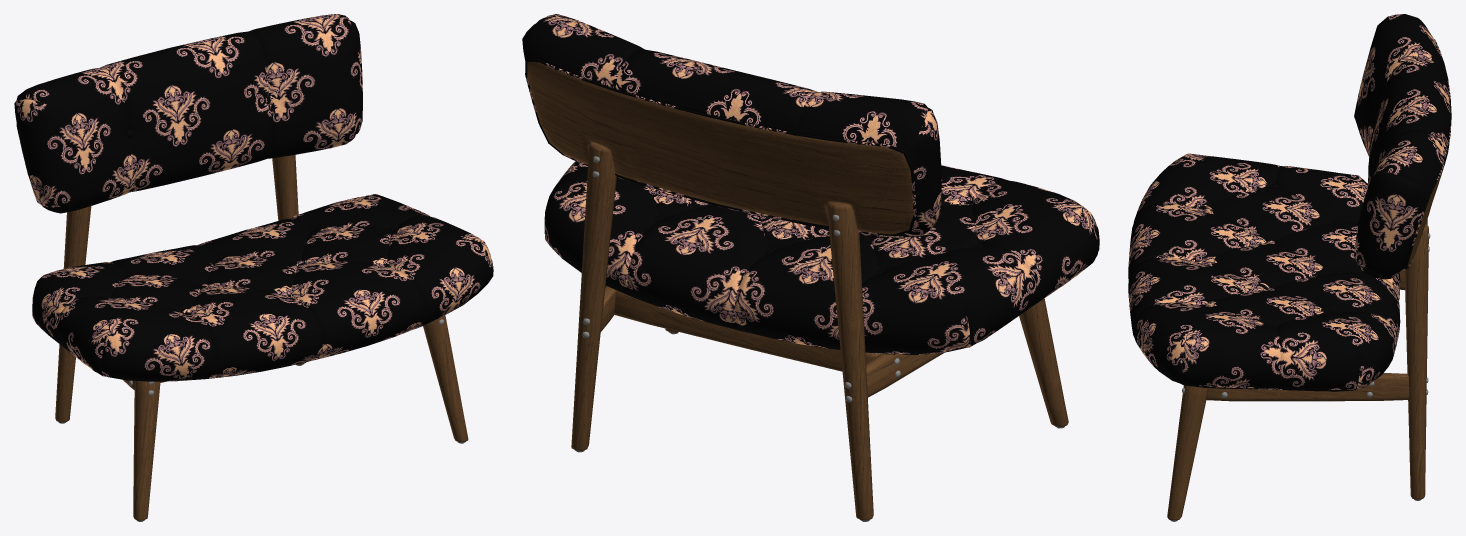
The model's file is armchair-damask.glb.
3 renders of one model, left to right at view 1: azimuth 30°, elevation 25°; view 2: azimuth 150°, elevation 25°; view 3: azimuth 270°, elevation 25°, orthographic. The views are drawn at different scales.
Visible parts, largest first — view 1: oval-tufted-chair_seat-fabric, oval-tufted-chair_back-fabric, oval-tufted-chair_legs-frame; view 2: oval-tufted-chair_seat-fabric, oval-tufted-chair_back-panel, oval-tufted-chair_legs-frame, oval-tufted-chair_back-fabric, oval-tufted-chair_back-welt; view 3: oval-tufted-chair_seat-fabric, oval-tufted-chair_back-fabric, oval-tufted-chair_legs-frame, oval-tufted-chair_back-welt, oval-tufted-chair_back-panel.
Part boxes in pixels (box(x1,y1,x2,y2)): oval-tufted-chair_seat-fabric: box(32, 194, 493, 380); oval-tufted-chair_back-fabric: box(14, 14, 362, 213); oval-tufted-chair_legs-frame: box(55, 154, 468, 520); oval-tufted-chair_seat-fabric: box(544, 161, 1099, 354); oval-tufted-chair_back-panel: box(527, 62, 913, 234); oval-tufted-chair_legs-frame: box(571, 142, 1068, 520); oval-tufted-chair_back-fabric: box(522, 14, 941, 237); oval-tufted-chair_back-welt: box(525, 58, 916, 236); oval-tufted-chair_seat-fabric: box(1128, 153, 1400, 390); oval-tufted-chair_back-fabric: box(1354, 14, 1450, 279); oval-tufted-chair_legs-frame: box(1167, 219, 1428, 520); oval-tufted-chair_back-welt: box(1404, 39, 1451, 268); oval-tufted-chair_back-panel: box(1407, 169, 1443, 266).
Size of the model in its own units: 0.8286 by 0.6874 by 0.5718.
4 materials, 3 textured.
